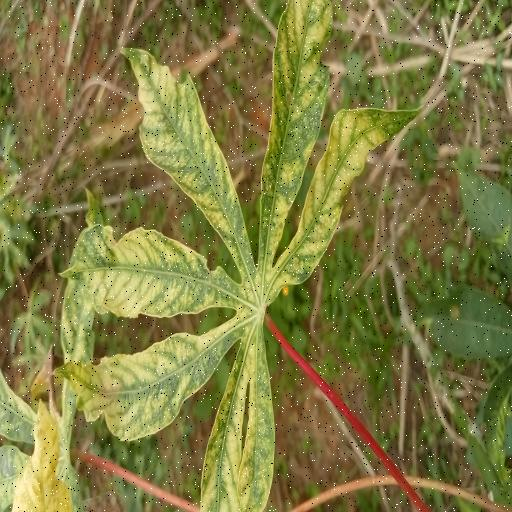Cassava_Mosaic: (48, 0, 427, 512)
